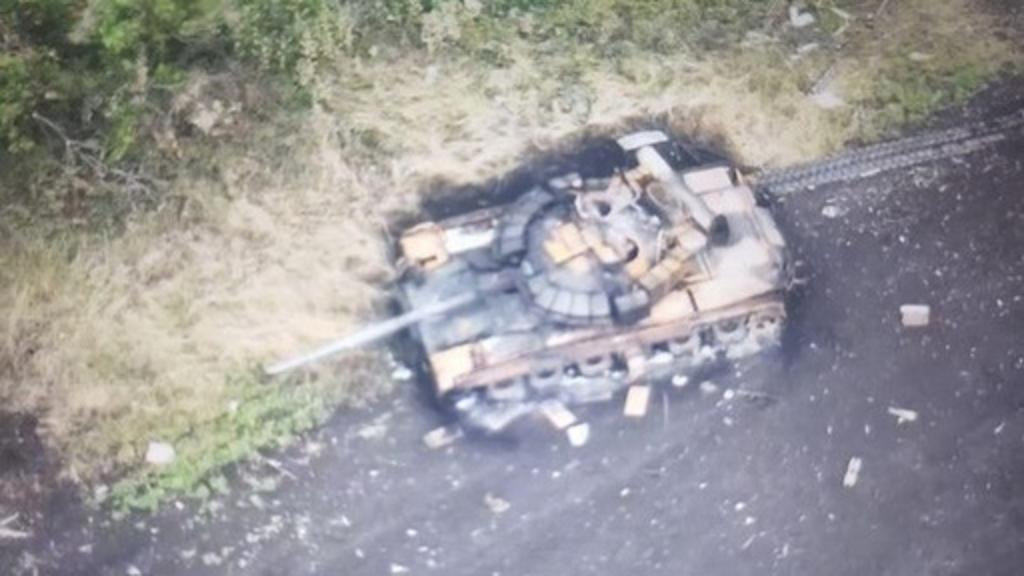TANK: (260, 126, 802, 426)
